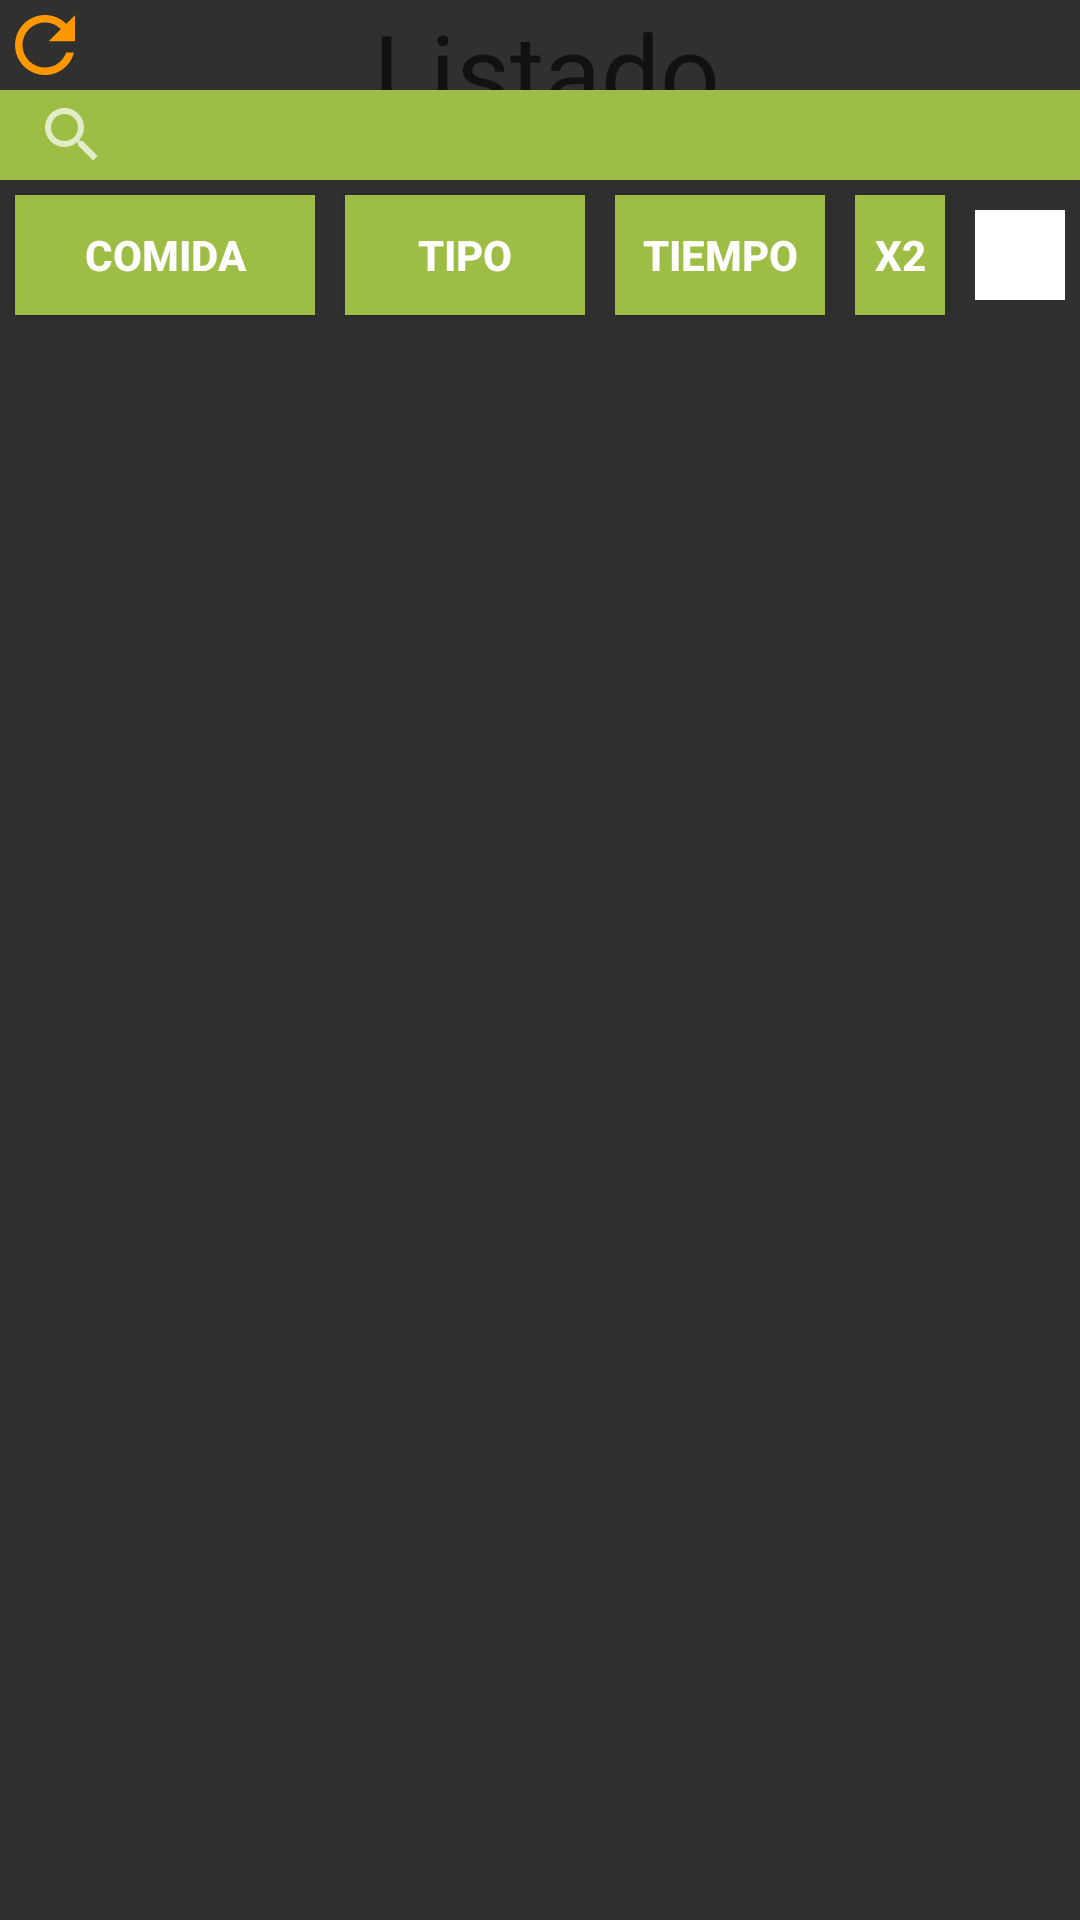

Screen size 1080px x 1920px. Icon name, then its center in pixels as point (x, y):
refresh: point (45, 45)
